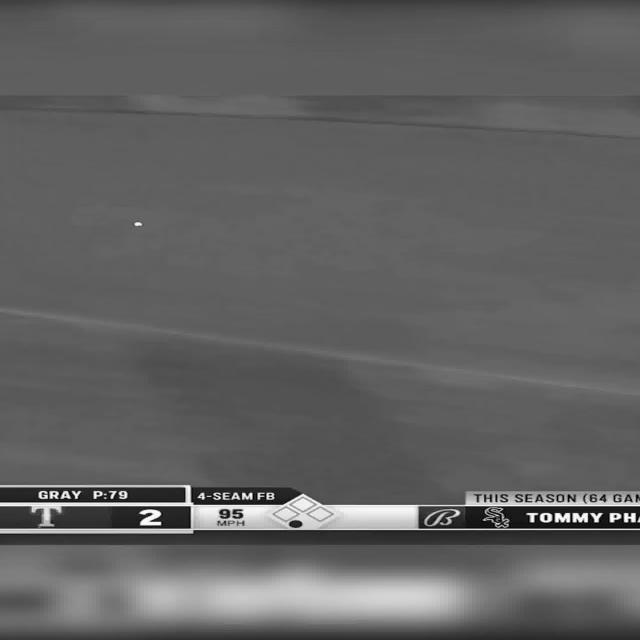baseball: (132, 221, 142, 227)
